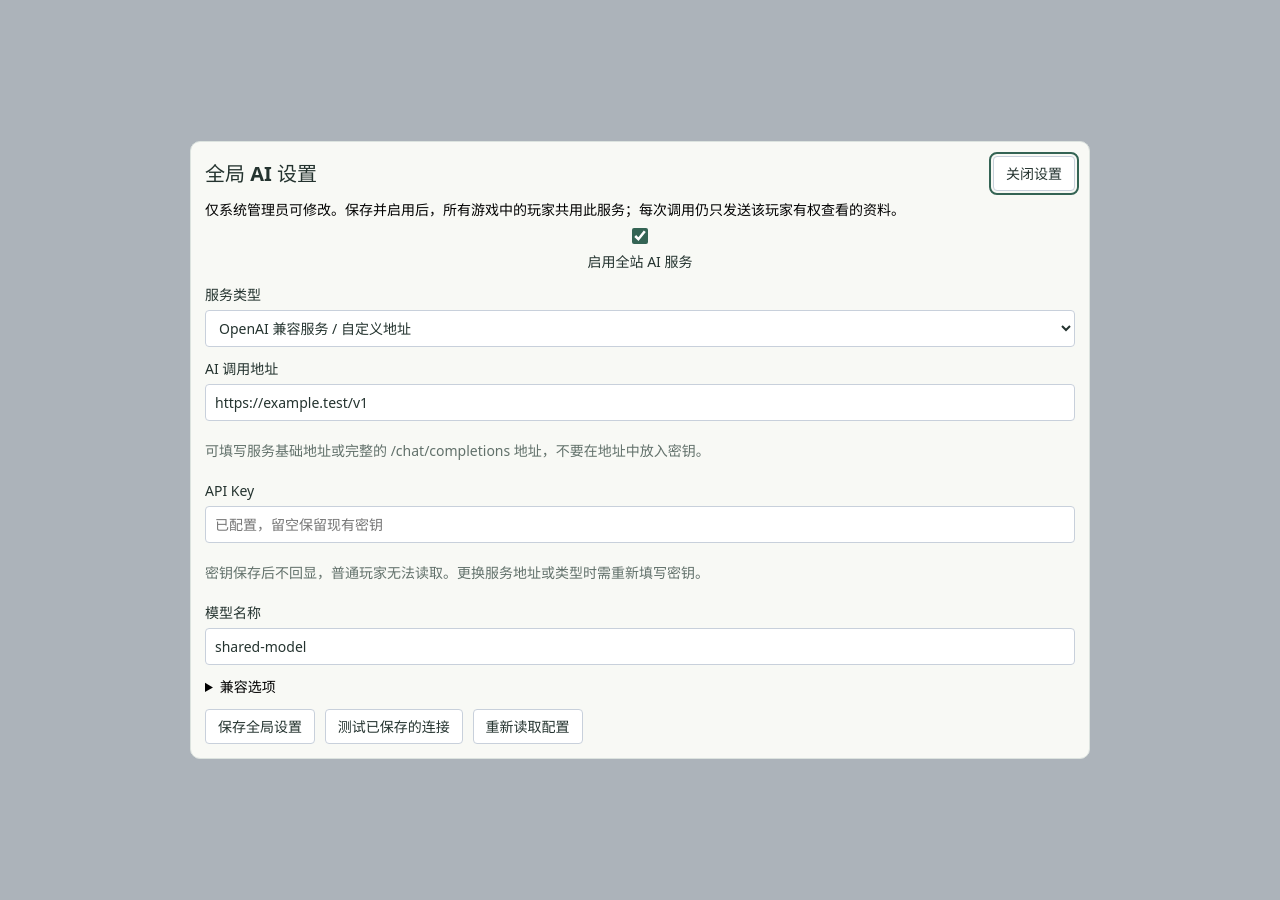
Test: never pre-fills a stored key and preserves it when changing only the model
Check: the password field labelled "API Key" is empty, box [205, 506, 1075, 543]
Replace the text in the field labelled "模型名称" with "new-model". click: (640, 647)
box: [205, 628, 1075, 665]
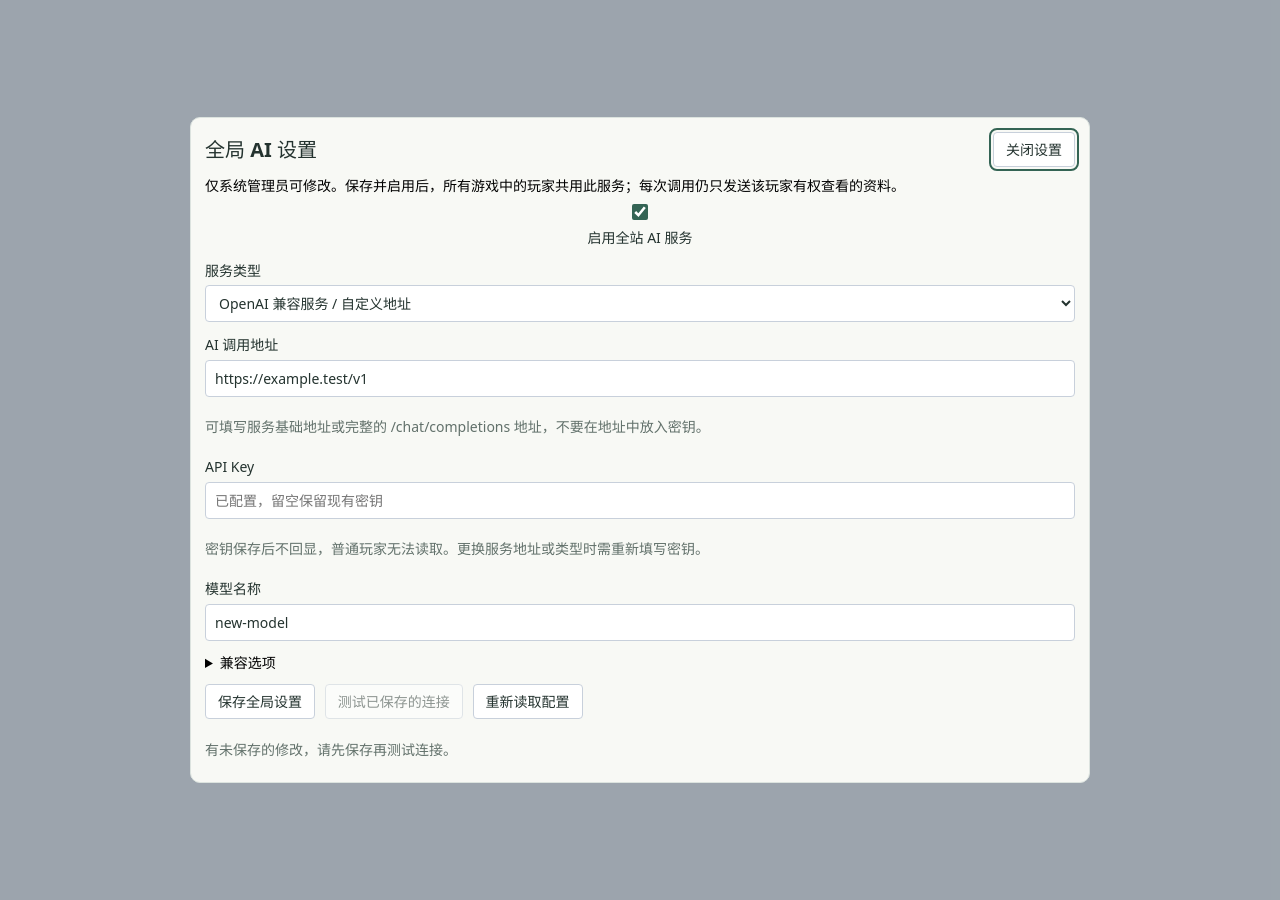
Check: the button "测试已保存的连接" is disabled, box [325, 684, 463, 719]
Click the button "保存全局设置". click: (260, 702)
box: [205, 684, 315, 719]
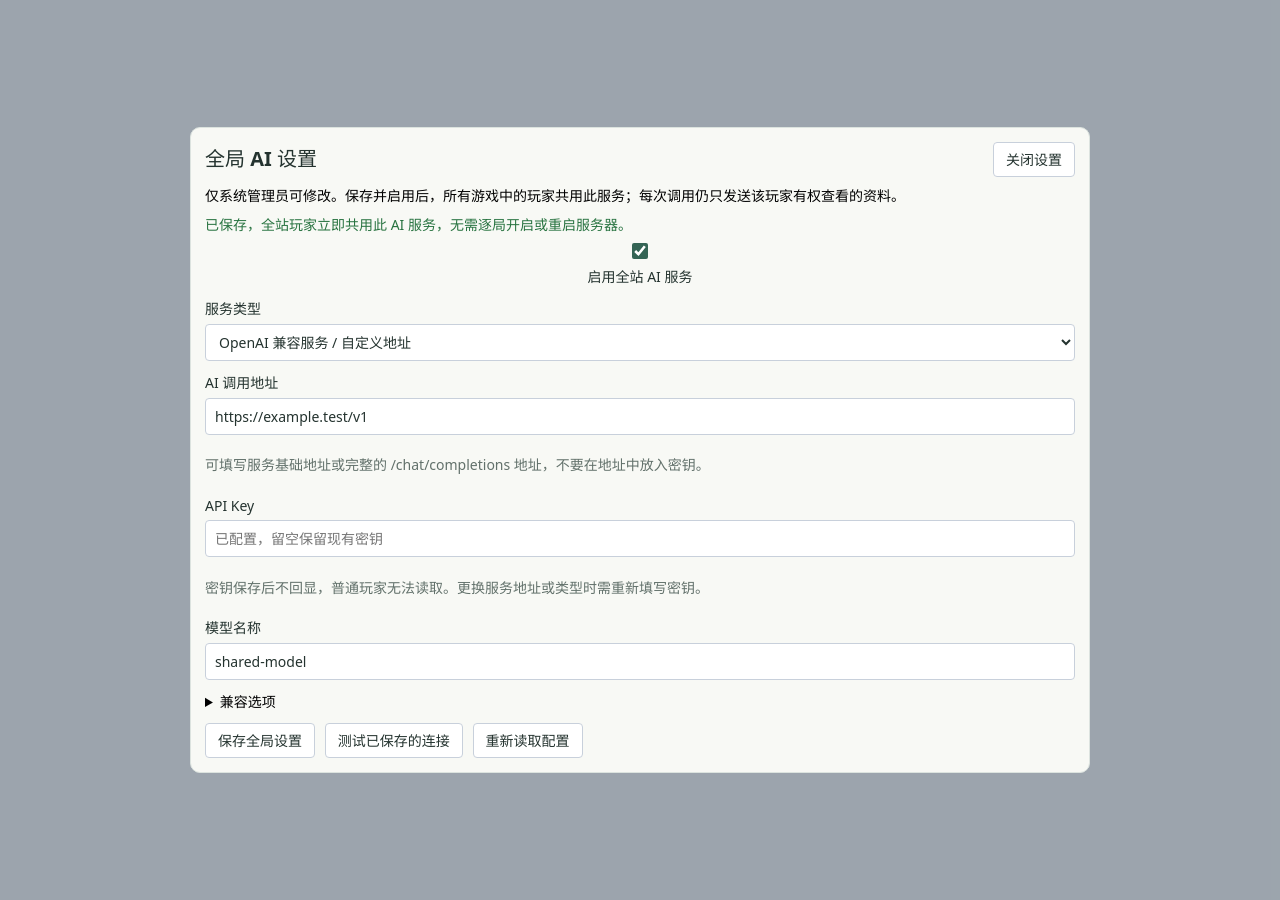
Check: the message "已保存，全站玩家立即共用此 AI 服务，无需逐局开启或重启服务器。" is shown, box [205, 215, 632, 234]
